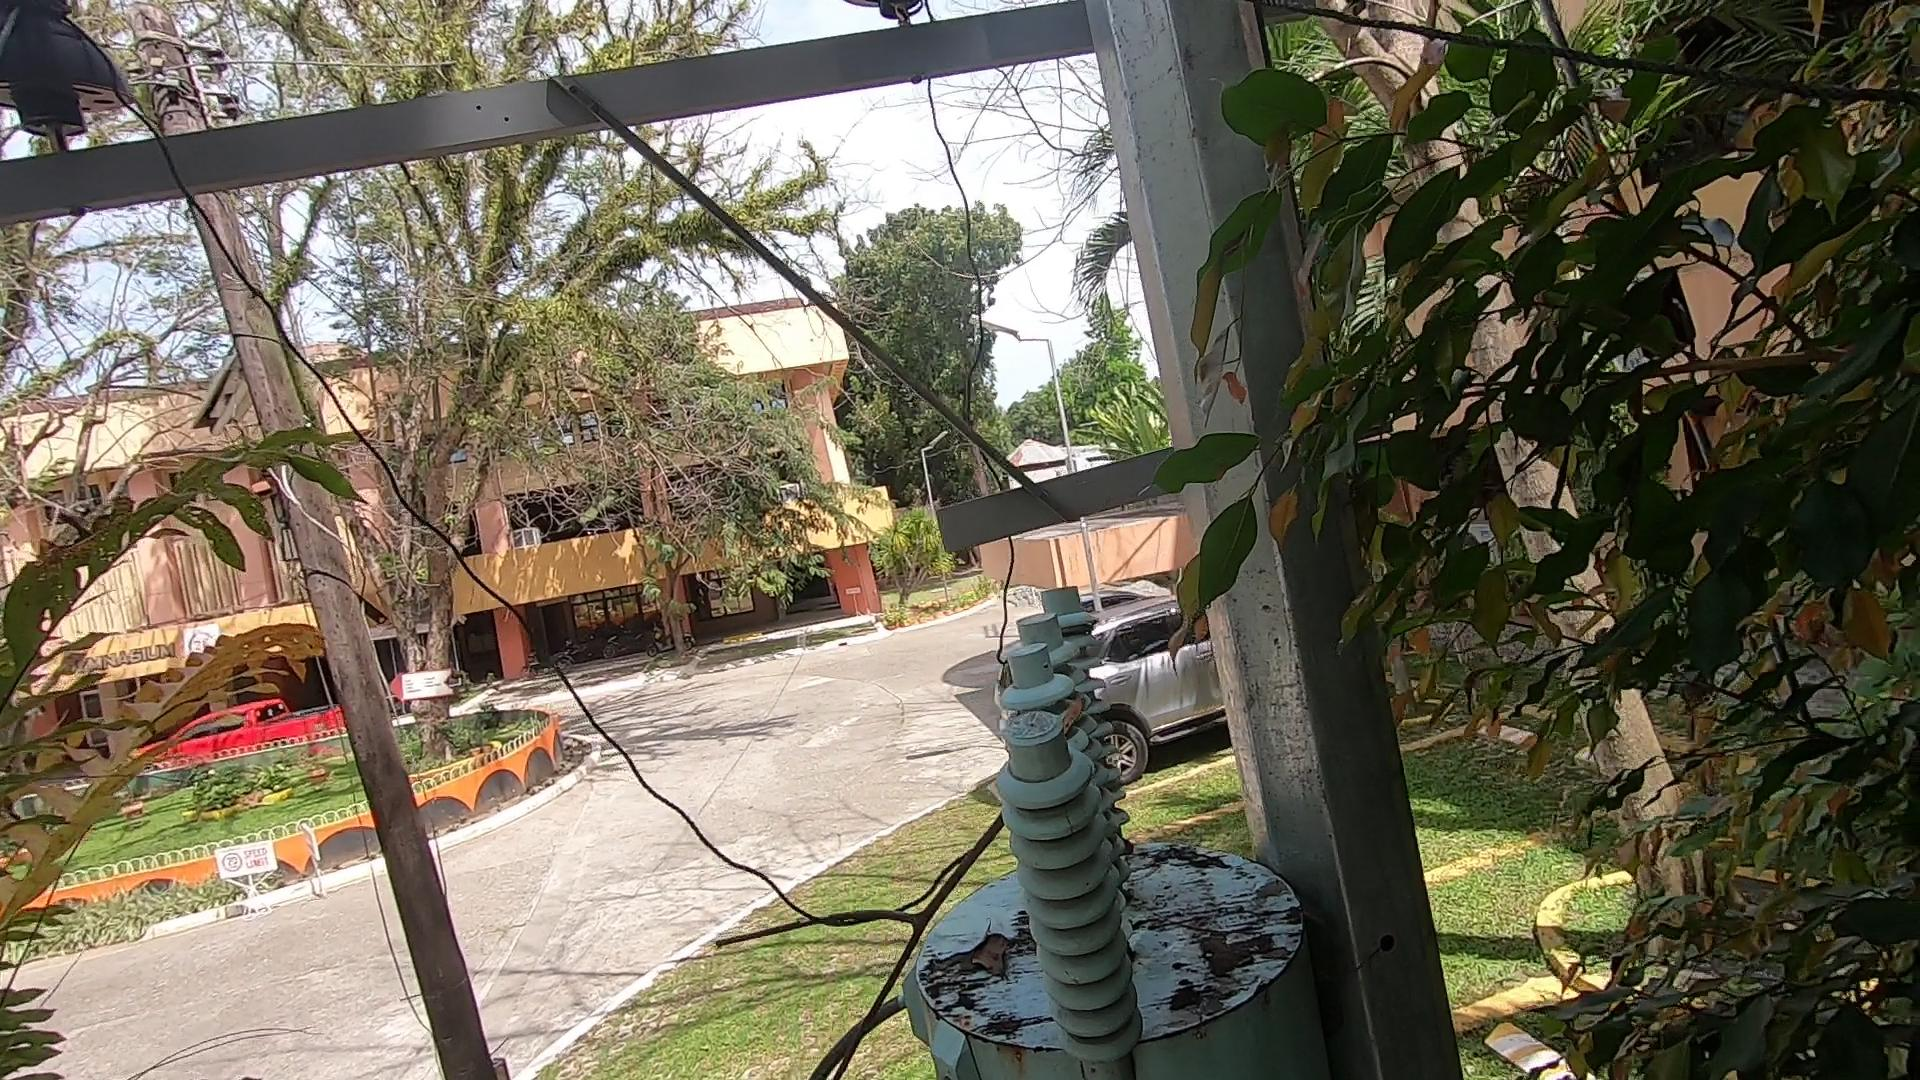leaf: (945, 923, 1029, 982)
tree branch: (692, 691, 1120, 1080)
